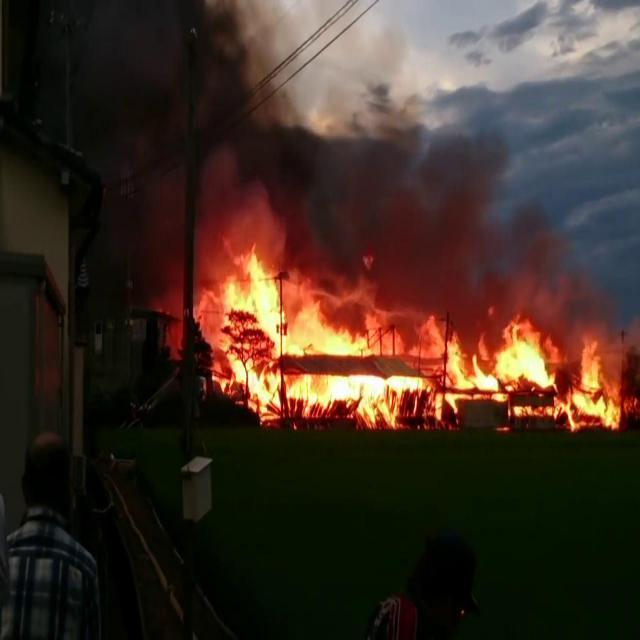Fire: (212, 246, 638, 428)
